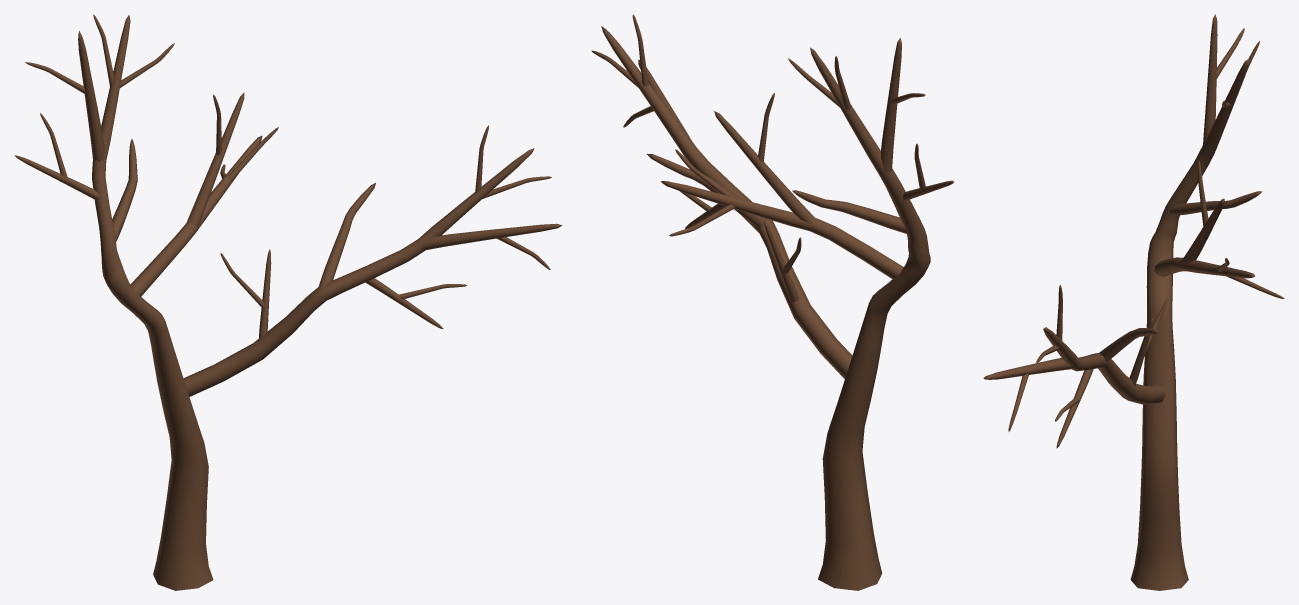
The model's file is DeadTree_6.glb.
3 renders of one model, left to right at view 1: azimuth 30°, elevation 25°; view 2: azimuth 150°, elevation 25°; view 3: azimuth 270°, elevation 25°, orthographic. The views are drawn at different scales.
Visible parts, largest first — view 1: DeadTree_6; view 2: DeadTree_6; view 3: DeadTree_6.
Part boxes in pixels (left/top/right/bottom): DeadTree_6: left=14, top=14, right=562, bottom=590; DeadTree_6: left=591, top=14, right=954, bottom=590; DeadTree_6: left=983, top=14, right=1284, bottom=590.
Bounding box in the file's own units: 5.41 × 6.41 × 3.3.
